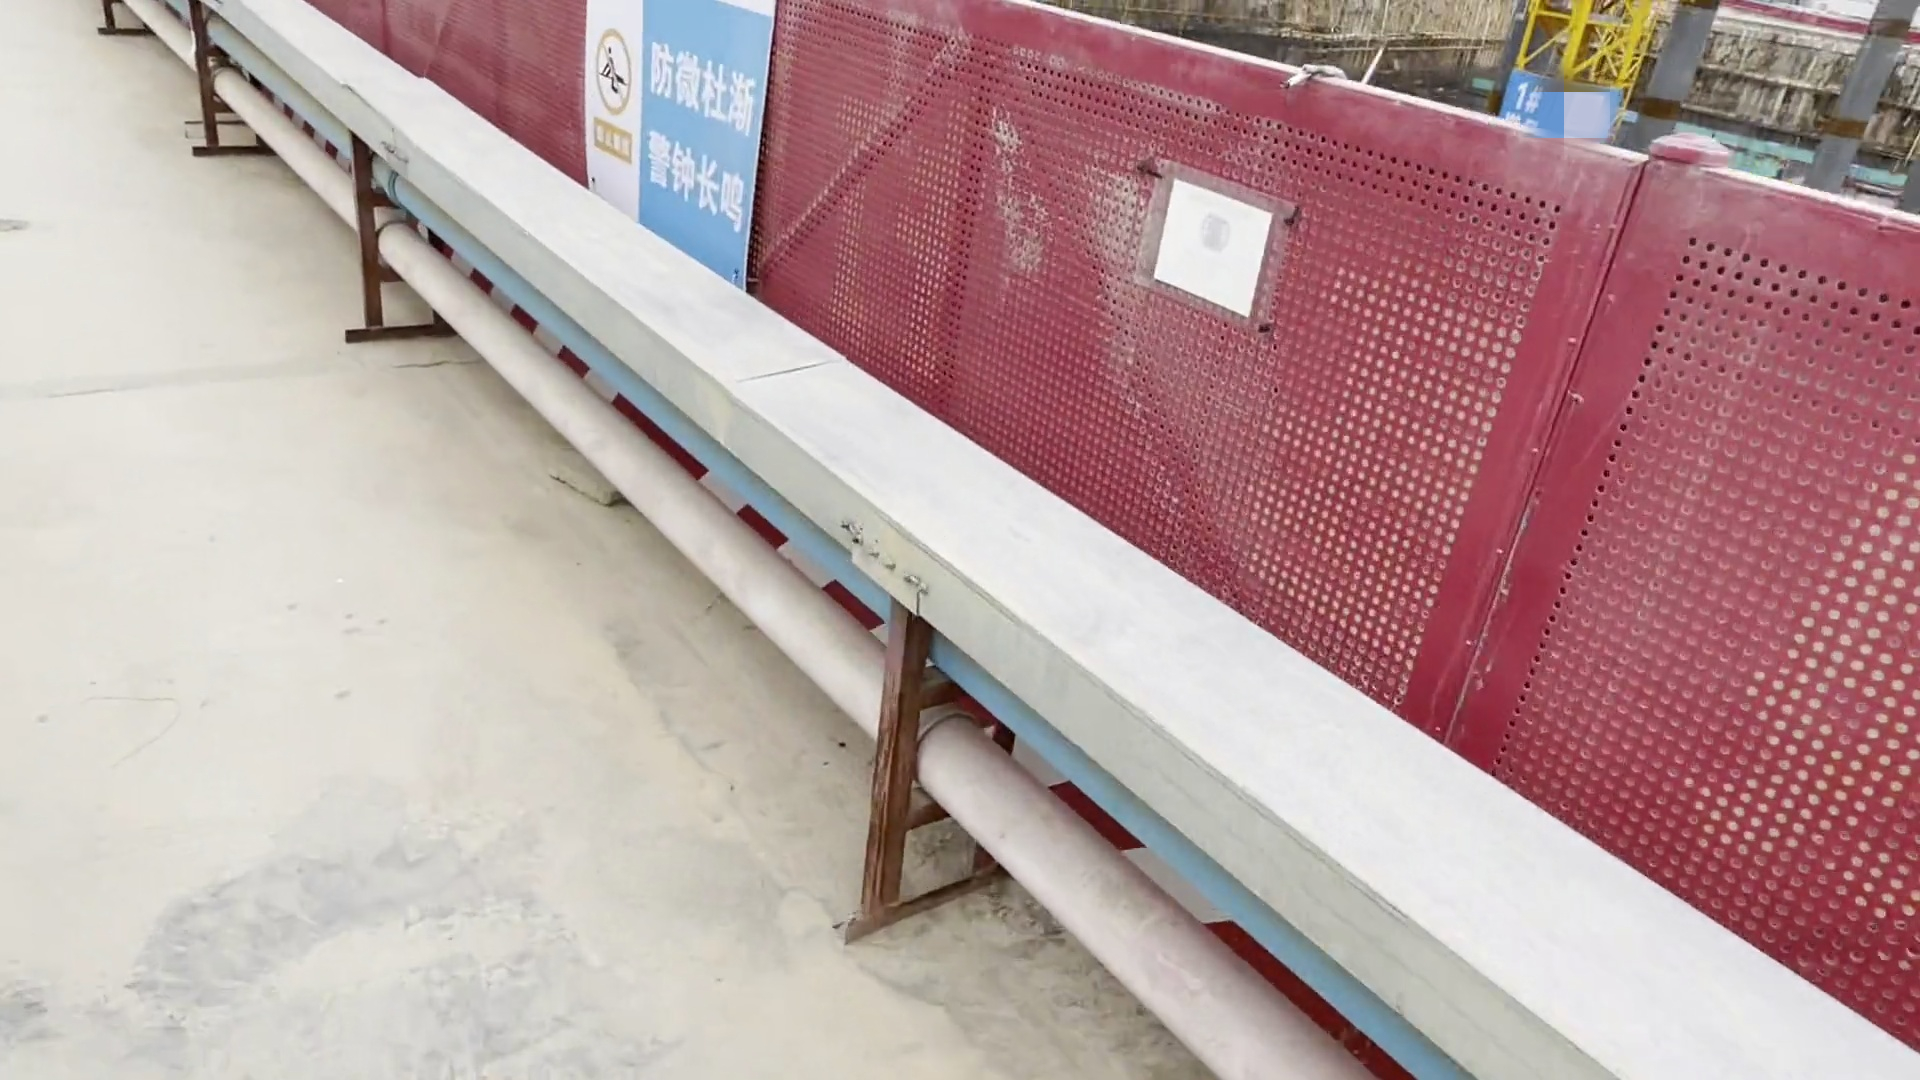slogan: (562, 1, 816, 309)
